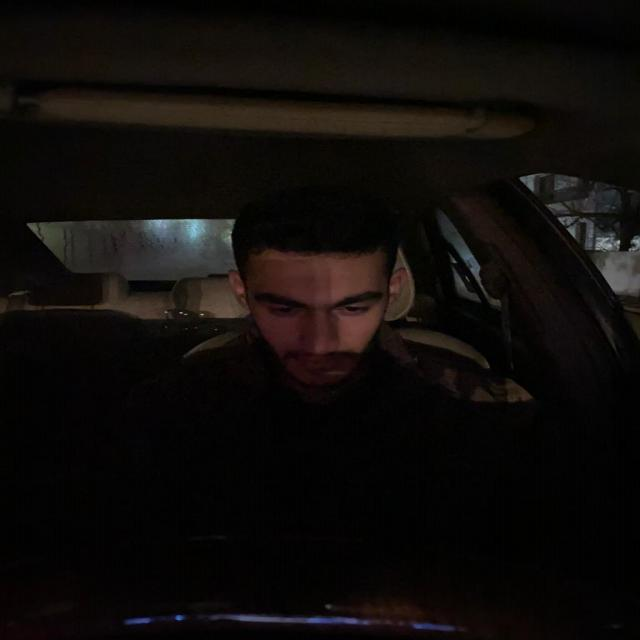person: (224, 186, 417, 391)
